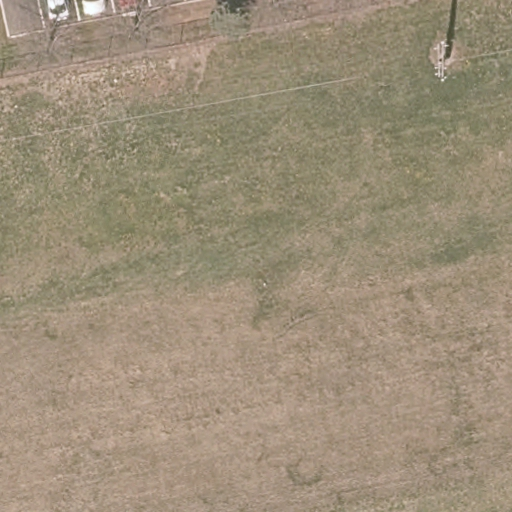DT: (433, 38, 453, 84)
